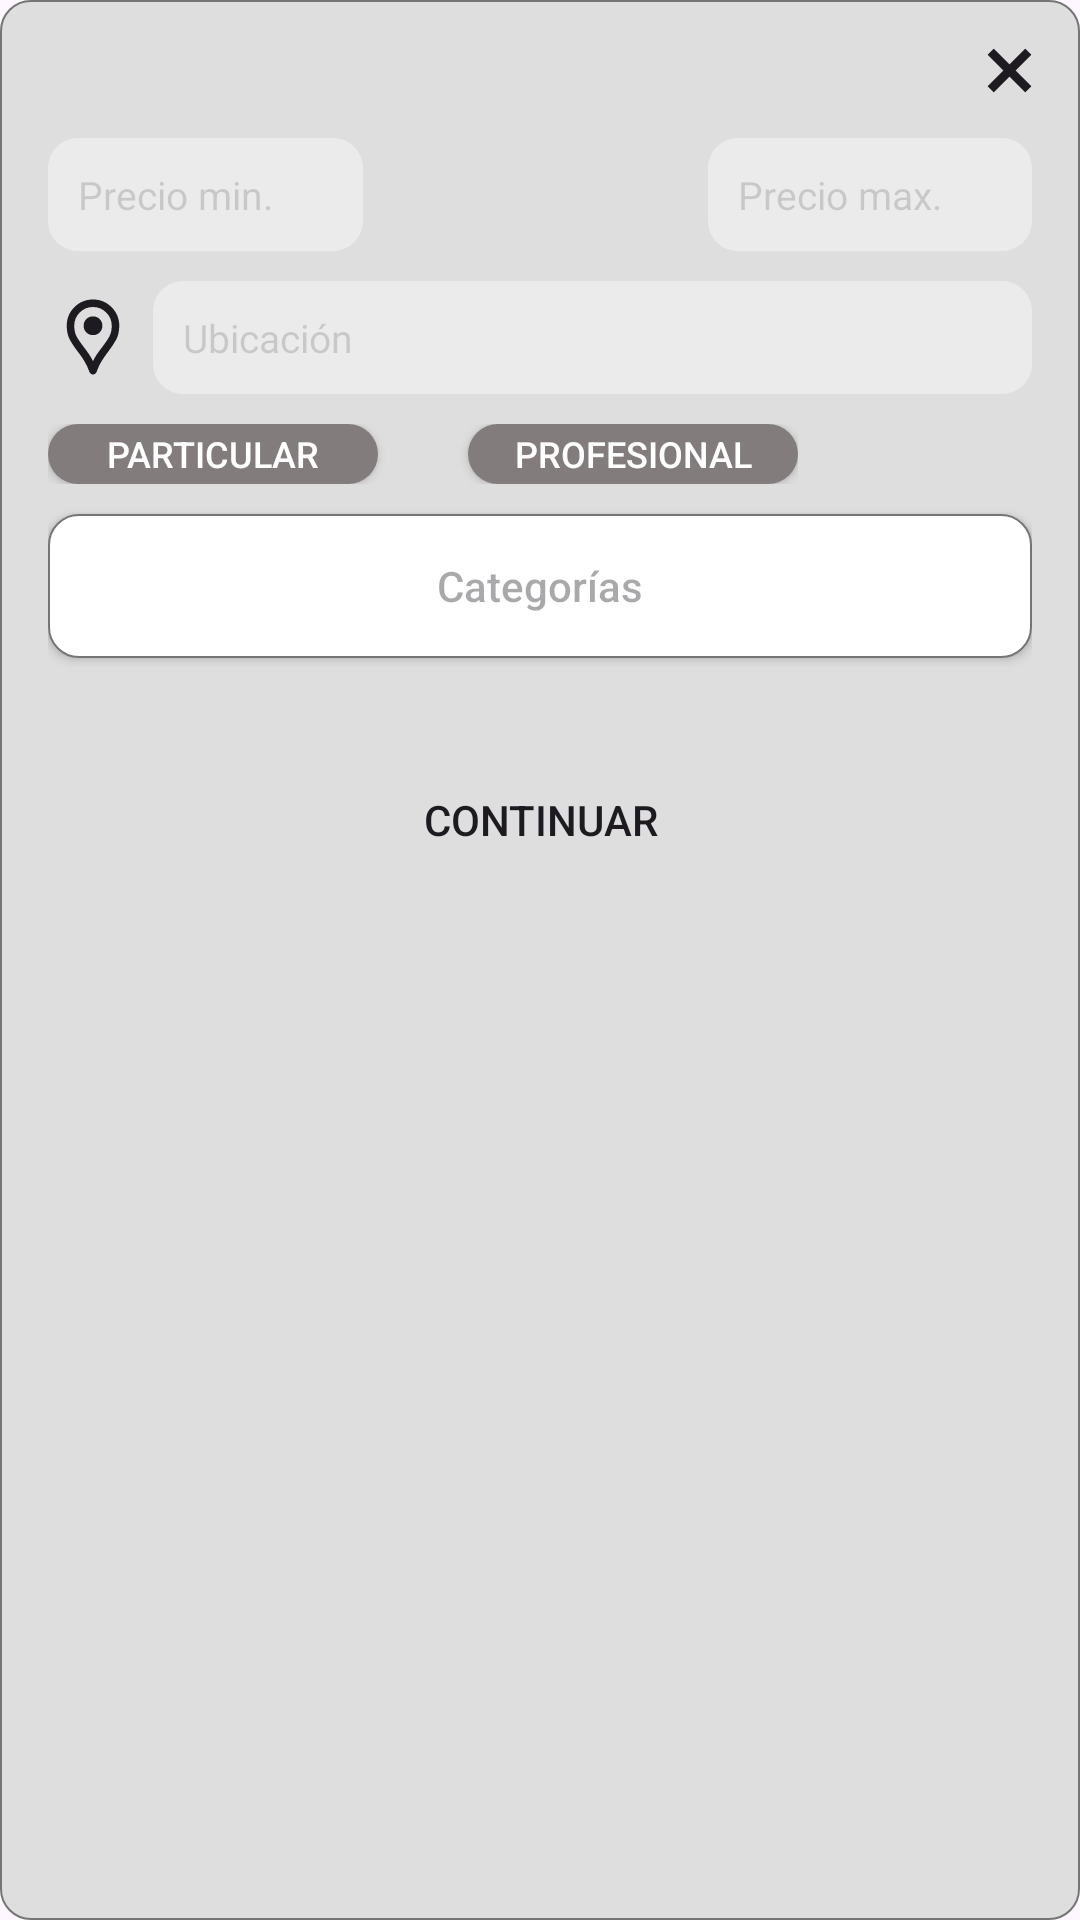

Icon bounding boxes for this 1080px×1920px phone screenshot, format bbox(x1, y1, x2, y2):
close: bbox(987, 48, 1032, 93)
location: bbox(66, 299, 120, 375)
